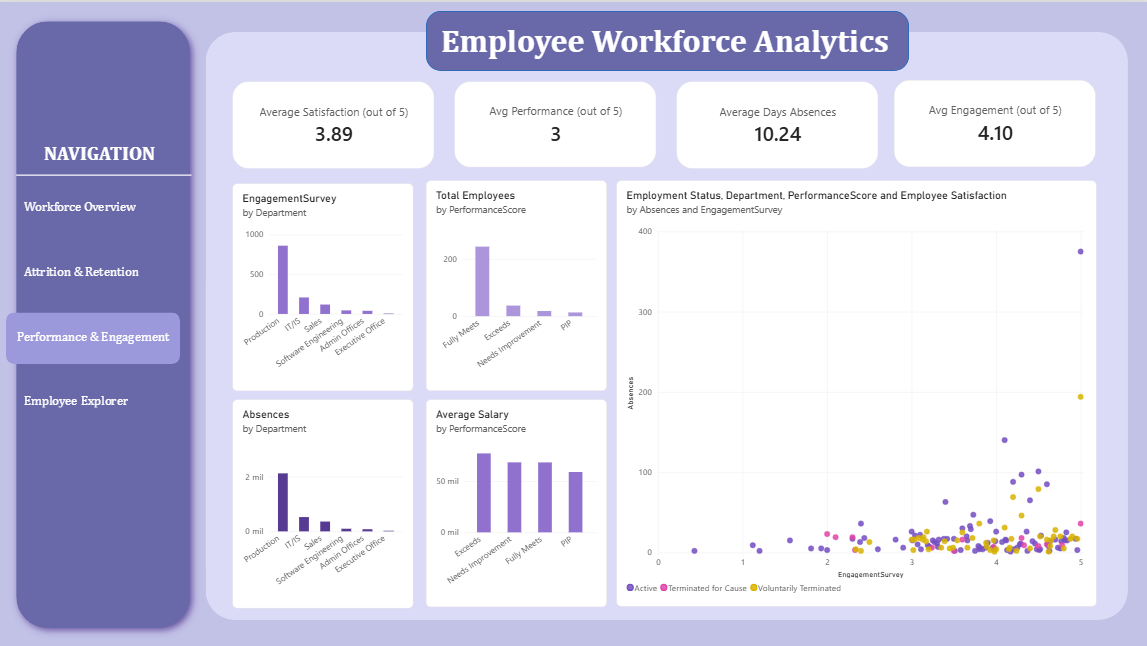

This screenshot's page, from the dashboard's own definition file:
{"tool":"powerbi","page":{"name":"Performance Engagement","canvas":[1920,1080],"ordinal":2},"visuals":[{"type":"shape","box":[15.7,15.7,324.3,1045.7],"z":0},{"type":"shape","box":[31.4,274.3,291.4,27.1],"z":1000},{"type":"shape","box":[15.6,517.8,290,85.7],"z":2000},{"type":"textbox","box":[32.5,545,296,56],"z":3000},{"type":"actionButton","box":[32,301,291.4,84.3],"z":4000},{"type":"actionButton","box":[33.3,406.7,291.4,84.3],"z":5000},{"type":"actionButton","box":[32.9,621.4,291.4,84.3],"z":6000},{"type":"textbox","box":[74,232,192,56],"z":7000},{"type":"shape","box":[347.5,50,1537.5,980],"z":8000},{"type":"shape","box":[715,15,805,100],"z":9000},{"type":"textbox","box":[740,32.5,755,82.5],"z":10000},{"type":"cardVisual","fields":{"Data":["HRDataset_v14.Avg Engagement"]},"box":[1495.9,129.4,336.3,145.8],"z":11000},{"type":"clusteredColumnChart","title":"Total Employees","fields":{"Category":["HRDataset_v14.PerformanceScore"],"Y":["HRDataset_v14.Total Employees"]},"box":[715,298.7,301.1,350.4],"z":12000},{"type":"cardVisual","fields":{"Data":["HRDataset_v14.Average Satisfaction"]},"box":[392.8,131.7,336.3,145.8],"z":13000},{"type":"cardVisual","fields":{"Data":["HRDataset_v14.Average Absences"]},"box":[1133.7,131.7,336.3,145.8],"z":14000},{"type":"scatterChart","title":"Employment Status, Department, PerformanceScore and Employee Satisfaction","fields":{"Series":["HRDataset_v14.EmploymentStatus"],"X":["HRDataset_v14.EngagementSurvey"],"Y":["Sum(HRDataset_v14.Absences)"]},"box":[1032.5,298.7,799.7,710.3],"z":15000},{"type":"clusteredColumnChart","title":"EngagementSurvey","fields":{"Category":["HRDataset_v14.Department"],"Y":["Sum(HRDataset_v14.EngagementSurvey)"]},"box":[392.8,303.4,301.1,345.7],"z":16000},{"type":"clusteredColumnChart","title":"Absences","fields":{"Category":["HRDataset_v14.Department"],"Y":["Sum(HRDataset_v14.Absences)"]},"box":[392.8,663.3,301.1,348.1],"z":17000},{"type":"clusteredColumnChart","title":"Average Salary","fields":{"Category":["HRDataset_v14.PerformanceScore"],"Y":["HRDataset_v14.Average Salary"]},"box":[715,663.3,301.1,345.7],"z":18000},{"type":"cardVisual","fields":{"Data":["HRDataset_v14.Avg Performance"]},"box":[762,131.7,336.3,143.5],"z":19000}]}

Visuals, with their boxes in screenshot pixels (x1, y1, x2, y2), scaled from the page's 1920x1080 canvas onto the 1147x646 screenshot:
shape: box=[9, 9, 203, 635]
shape: box=[19, 164, 193, 180]
shape: box=[9, 310, 183, 361]
textbox: box=[19, 326, 196, 359]
actionButton: box=[19, 180, 193, 230]
actionButton: box=[20, 243, 194, 294]
actionButton: box=[20, 372, 194, 422]
textbox: box=[44, 139, 159, 172]
shape: box=[208, 30, 1126, 616]
shape: box=[427, 9, 908, 69]
textbox: box=[442, 19, 893, 69]
cardVisual - HRDataset_v14.Avg Engagement: box=[894, 77, 1095, 165]
"Total Employees" clusteredColumnChart: box=[427, 179, 607, 388]
cardVisual - HRDataset_v14.Average Satisfaction: box=[235, 79, 436, 166]
cardVisual - HRDataset_v14.Average Absences: box=[677, 79, 878, 166]
"Employment Status, Department, PerformanceScore and Employee Satisfaction" scatterChart: box=[617, 179, 1095, 604]
"EngagementSurvey" clusteredColumnChart: box=[235, 181, 415, 388]
"Absences" clusteredColumnChart: box=[235, 397, 415, 605]
"Average Salary" clusteredColumnChart: box=[427, 397, 607, 604]
cardVisual - HRDataset_v14.Avg Performance: box=[455, 79, 656, 165]
